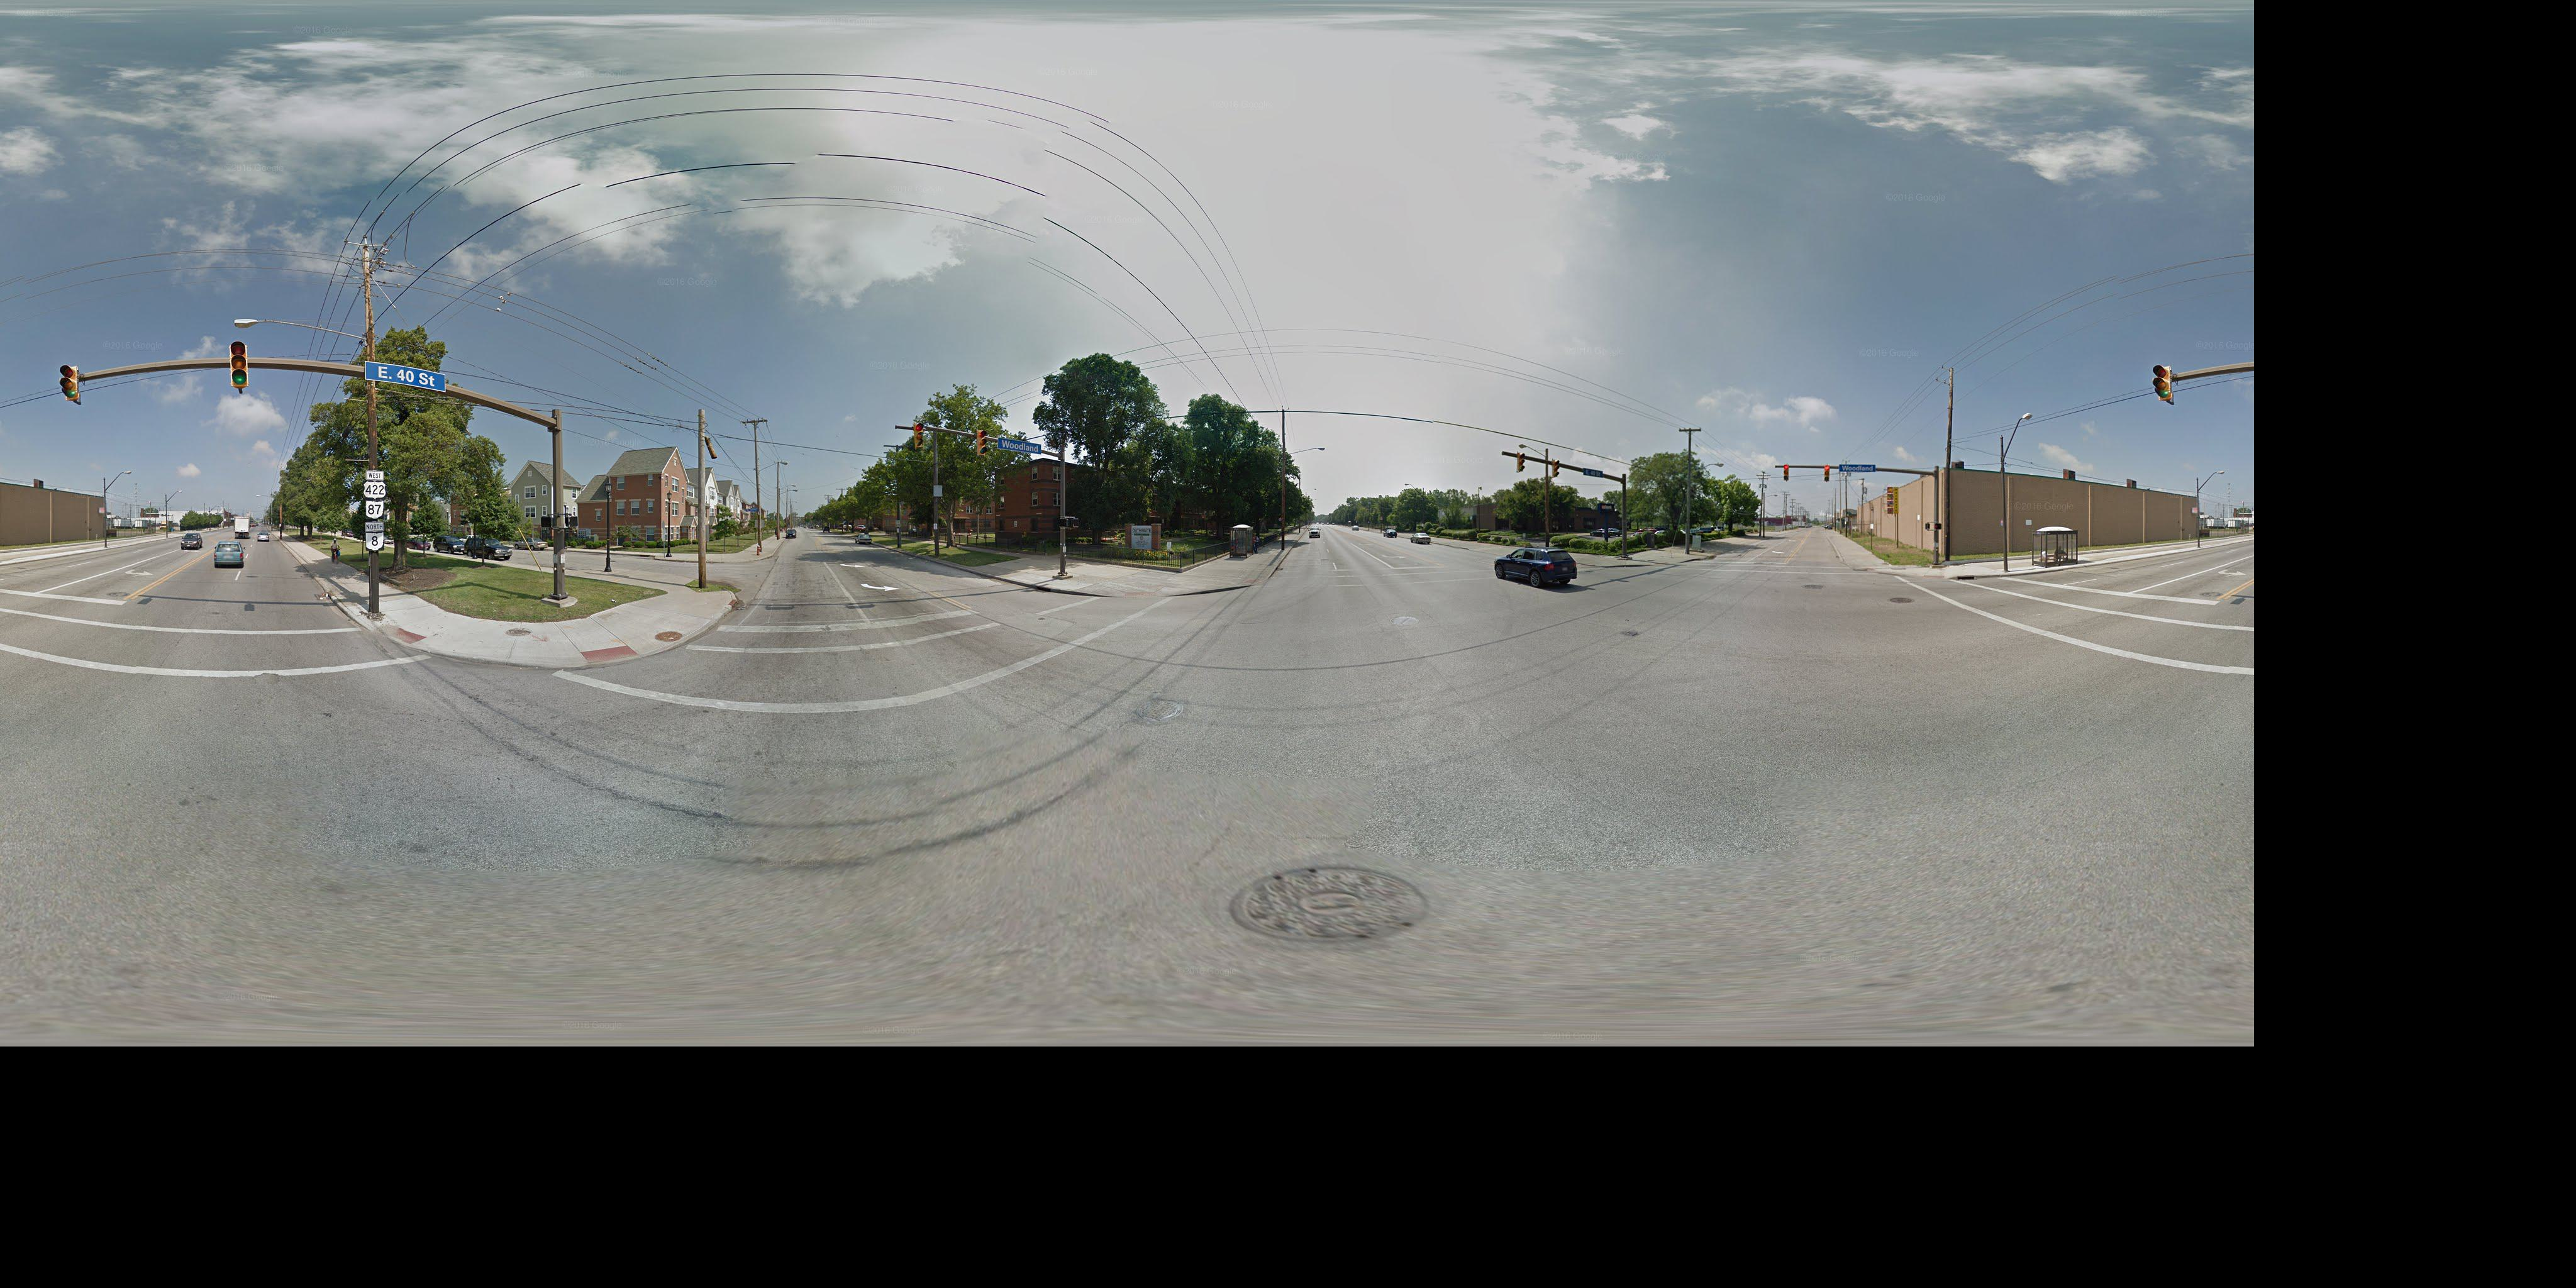Curb Ramp: (563, 637, 647, 670), (1916, 563, 1948, 588), (1847, 560, 1884, 577), (1648, 555, 1682, 570)
Irregular Ramp: (356, 611, 440, 657), (1107, 583, 1161, 606), (1239, 570, 1267, 588)
